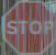Stop: (2, 1, 52, 54)
